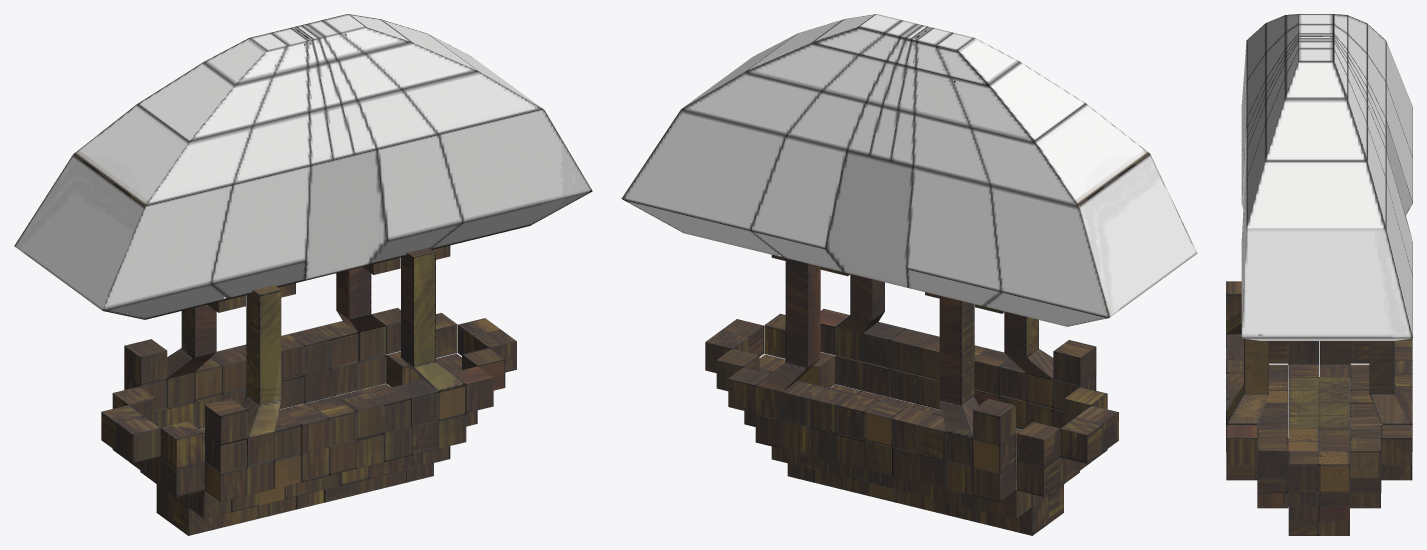
File: PirateShip2.fbx
3 views of the same model, side by side, from view 1: azimuth 30°, elevation 25°; view 2: azimuth 150°, elevation 25°; view 3: azimuth 270°, elevation 25° (orthographic). The views are drawn at different scales.
Parts seen in each view (by area): view 1: Cube; view 2: Cube; view 3: Cube.
Part boxes in pixels (x1,y1,x2,y2): Cube: [14, 14, 592, 535]; Cube: [621, 14, 1197, 535]; Cube: [1226, 14, 1412, 535].
Size of the model in its own units: 3600 by 3231 by 1229.
1 material, 1 textured.
